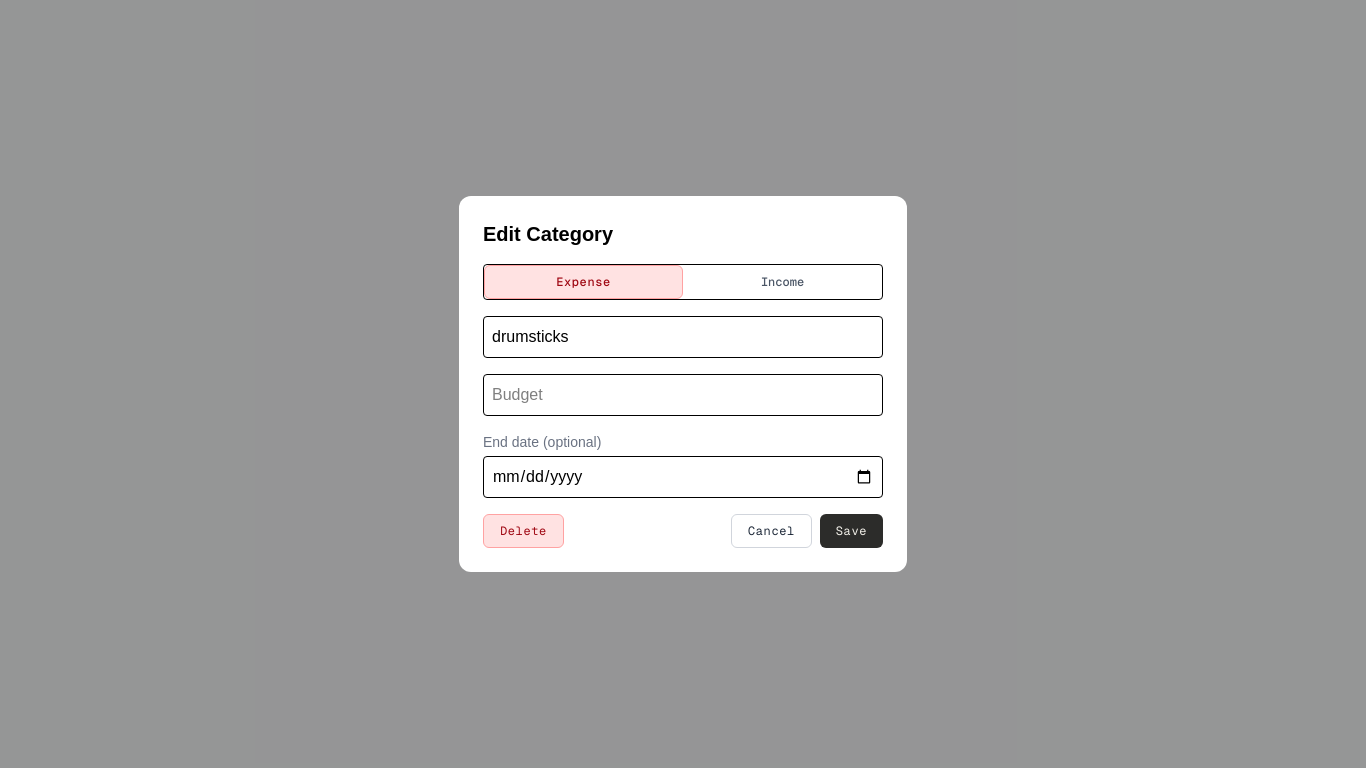
EditCategory › shows optional budget placeholder for income
Click the button "Income" at (782, 282), box [683,265,882,299]
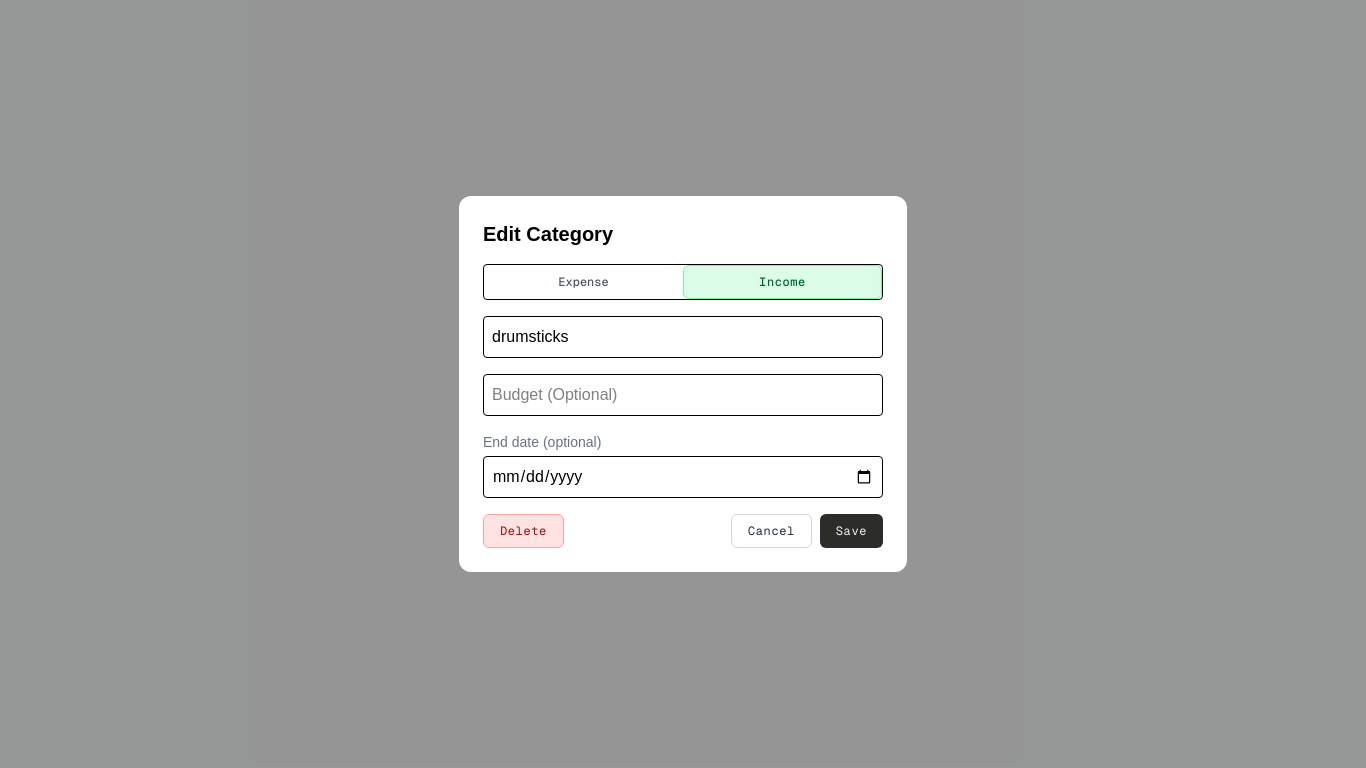
Result: the number field with placeholder "Budget (Optional)" is shown at [483,374,883,416]
